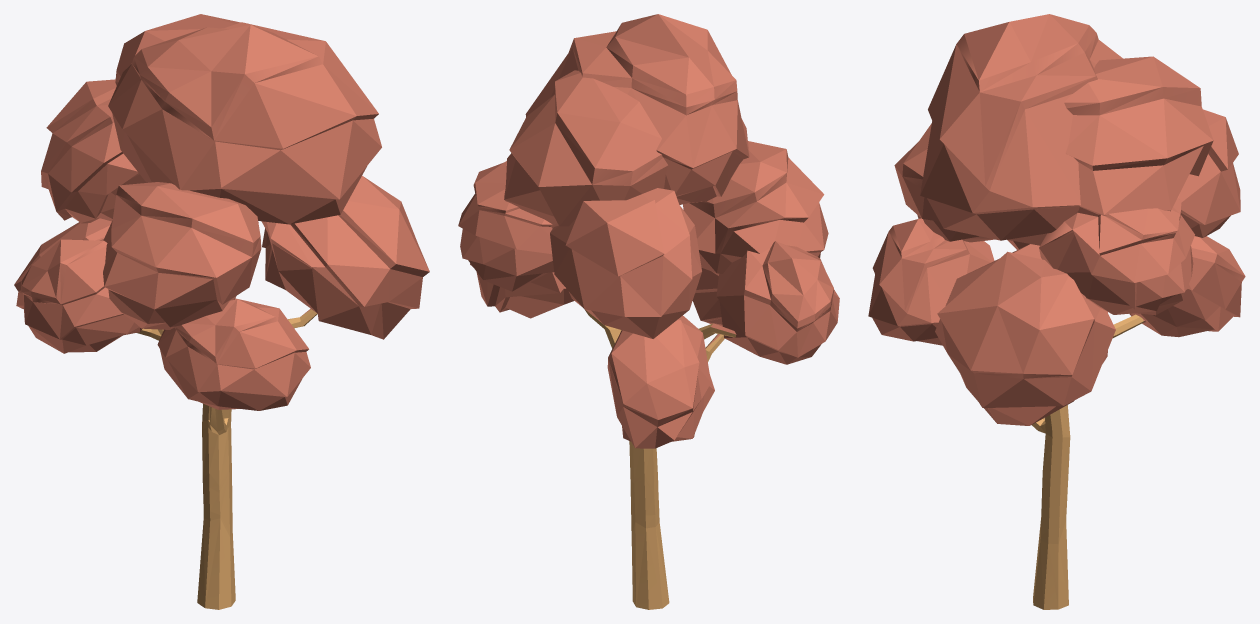
Rendered from Tree_Orange.fbx.
3 views of the same model, side by side, from view 1: azimuth 30°, elevation 25°; view 2: azimuth 150°, elevation 25°; view 3: azimuth 270°, elevation 25° (orthographic). The views are drawn at different scales.
Visible parts, largest first — view 1: PP_Birch_Tree_06; view 2: PP_Birch_Tree_06; view 3: PP_Birch_Tree_06.
Boxes of the visible parts, x1,y1,x2,y2 form: PP_Birch_Tree_06: (14, 14, 429, 609); PP_Birch_Tree_06: (458, 14, 839, 609); PP_Birch_Tree_06: (868, 14, 1245, 609).
Bounding box in the file's own units: 244 × 367 × 214.
